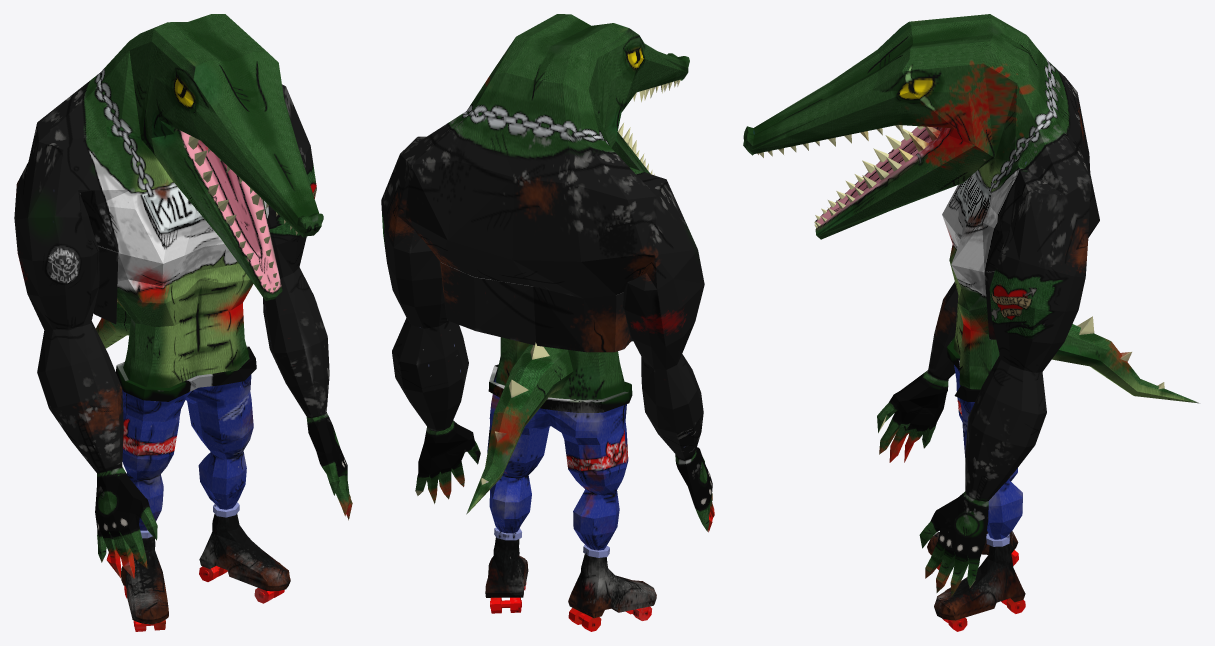
Rendered from cocodrilaBonesSelect_000050.obj.
The picture shows the model from 3 angles, left to right: view 1: azimuth 30°, elevation 25°; view 2: azimuth 150°, elevation 25°; view 3: azimuth 270°, elevation 25°; orthographic projection. The views are drawn at different scales.
Visible parts, largest first — view 1: Crocodile.002_Cylinder.002; view 2: Crocodile.002_Cylinder.002; view 3: Crocodile.002_Cylinder.002.
Boxes of the visible parts, x1,y1,x2,y2 form: Crocodile.002_Cylinder.002: (14, 14, 352, 631); Crocodile.002_Cylinder.002: (381, 14, 714, 631); Crocodile.002_Cylinder.002: (743, 14, 1199, 631).
Size of the model in its own units: 3.65 by 6.72 by 4.9.
